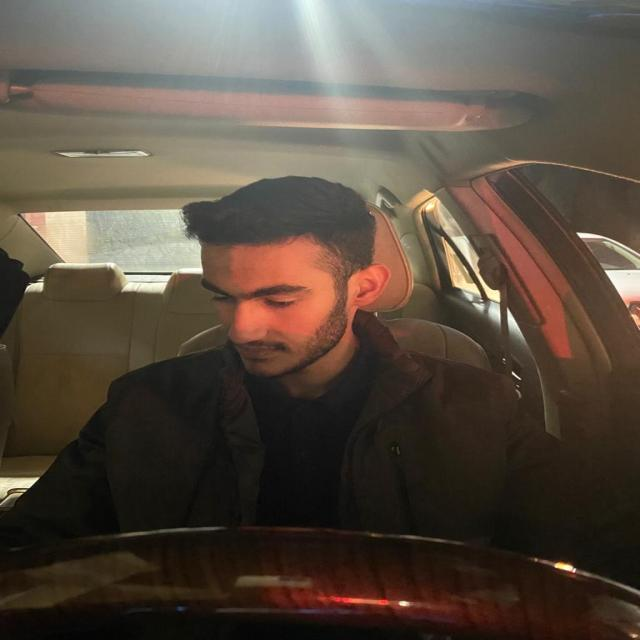drowsy: (173, 170, 394, 386)
